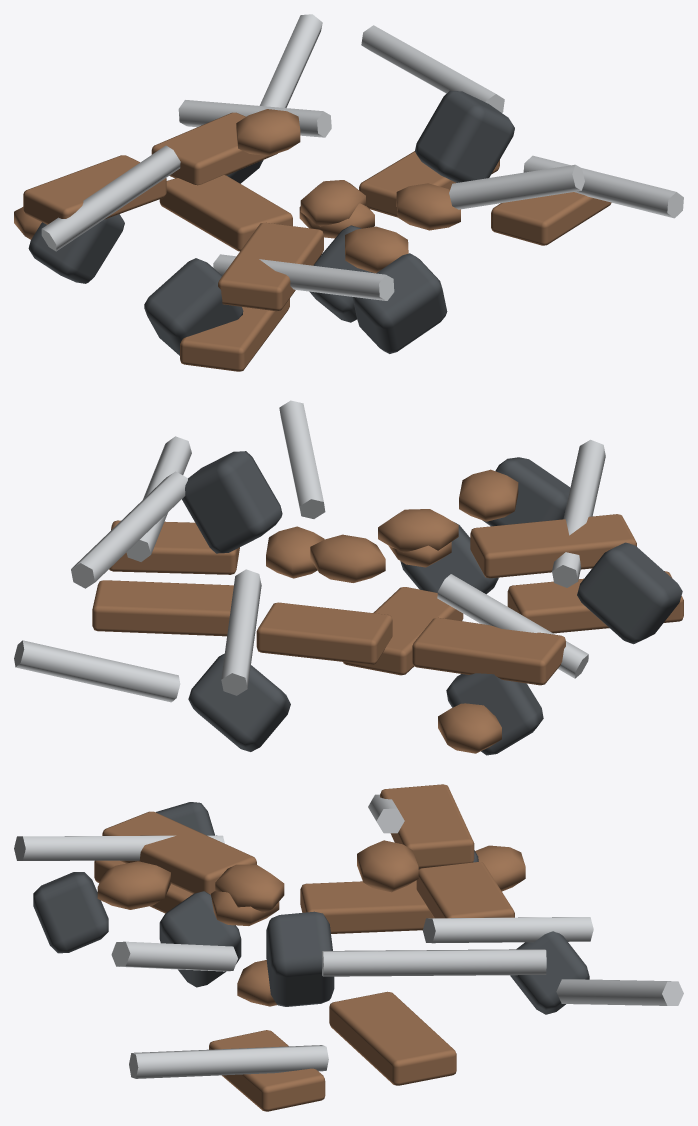
Rendered from scrap-pile.glb.
3 views of the same model, one above another, from view 1: azimuth 30°, elevation 25°; view 2: azimuth 150°, elevation 25°; view 3: azimuth 270°, elevation 25° (orthographic). The views are drawn at different scales.
Visible parts, largest first — view 1: scrap-pile; view 2: scrap-pile; view 3: scrap-pile.
Boxes of the visible parts, left/top/right/bottom form: scrap-pile: left=14, top=14, right=683, bottom=371; scrap-pile: left=14, top=400, right=683, bottom=755; scrap-pile: left=14, top=784, right=683, bottom=1111.
Size of the model in its own units: 0.8845 by 0.2635 by 0.9456.
